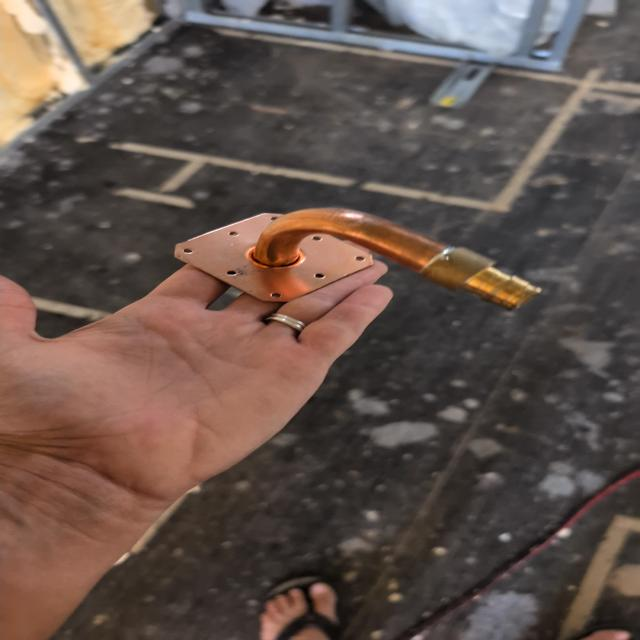wall_flange: (151, 206, 557, 314)
